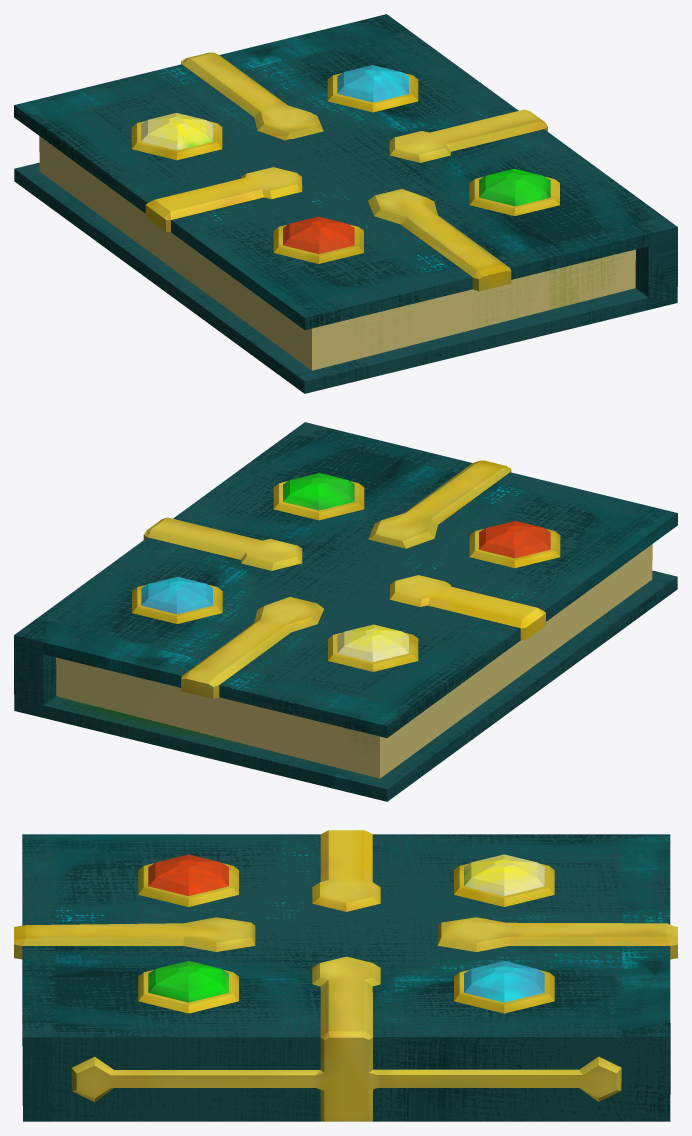
The model's file is book 100.FBX.
3 views of the same model, one above another, from view 1: azimuth 30°, elevation 25°; view 2: azimuth 150°, elevation 25°; view 3: azimuth 270°, elevation 25° (orthographic). The views are drawn at different scales.
Parts seen in each view (by area): view 1: Box001; view 2: Box001; view 3: Box001.
Boxes of the visible parts, bbox=[...] form: Box001: bbox=[14, 14, 677, 393]; Box001: bbox=[14, 422, 677, 801]; Box001: bbox=[14, 830, 677, 1121].
Size of the model in its own units: 53.14 by 12.41 by 71.83.
1 material, 1 textured.
